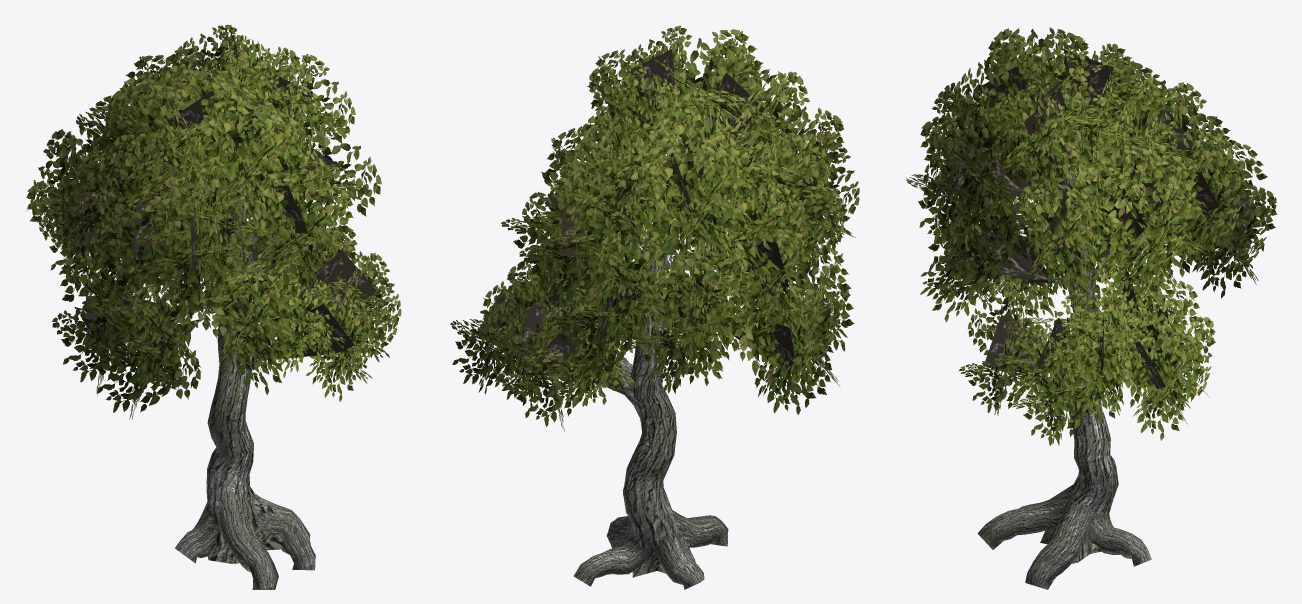
The model's file is tree02.fbx.
3 views of the same model, side by side, from view 1: azimuth 30°, elevation 25°; view 2: azimuth 150°, elevation 25°; view 3: azimuth 270°, elevation 25° (orthographic). The views are drawn at different scales.
Visible parts, largest first — view 1: tree02_LOD0; view 2: tree02_LOD0; view 3: tree02_LOD0.
Part boxes in pixels (box(x1,y1,x2,y2)): tree02_LOD0: box(26, 24, 401, 589); tree02_LOD0: box(450, 25, 859, 589); tree02_LOD0: box(906, 27, 1277, 589).
Size of what is drawn, in the model's own units: 384 by 384 by 573.
